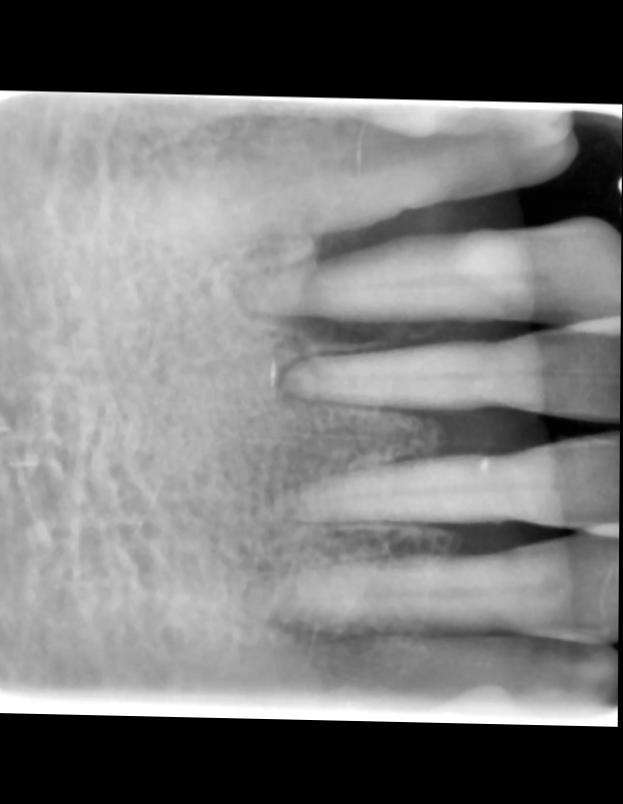Individual Tooth: (135, 105, 574, 243), (242, 216, 622, 332), (234, 531, 620, 640), (285, 430, 621, 534), (283, 315, 621, 418), (241, 634, 619, 704)
